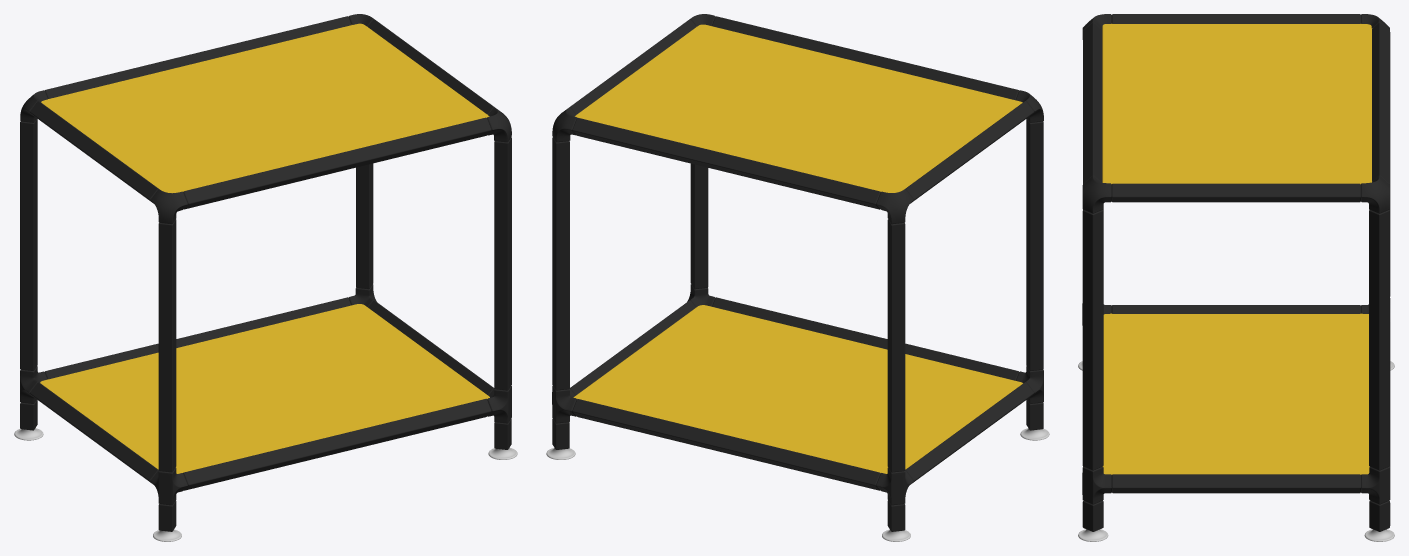
3 renders of one model, left to right at view 1: azimuth 30°, elevation 25°; view 2: azimuth 150°, elevation 25°; view 3: azimuth 270°, elevation 25°, orthographic. The views are drawn at different scales.
Visible parts, largest first — view 1: 479x329x374; view 2: 479x329x374; view 3: 479x329x374.
Boxes of the visible parts, left/top/right/bottom form: 479x329x374: left=14, top=14, right=517, bottom=541; 479x329x374: left=546, top=14, right=1049, bottom=541; 479x329x374: left=1078, top=14, right=1394, bottom=541.
Bounding box in the file's own units: 0.5689 × 0.5133 × 0.4182.
